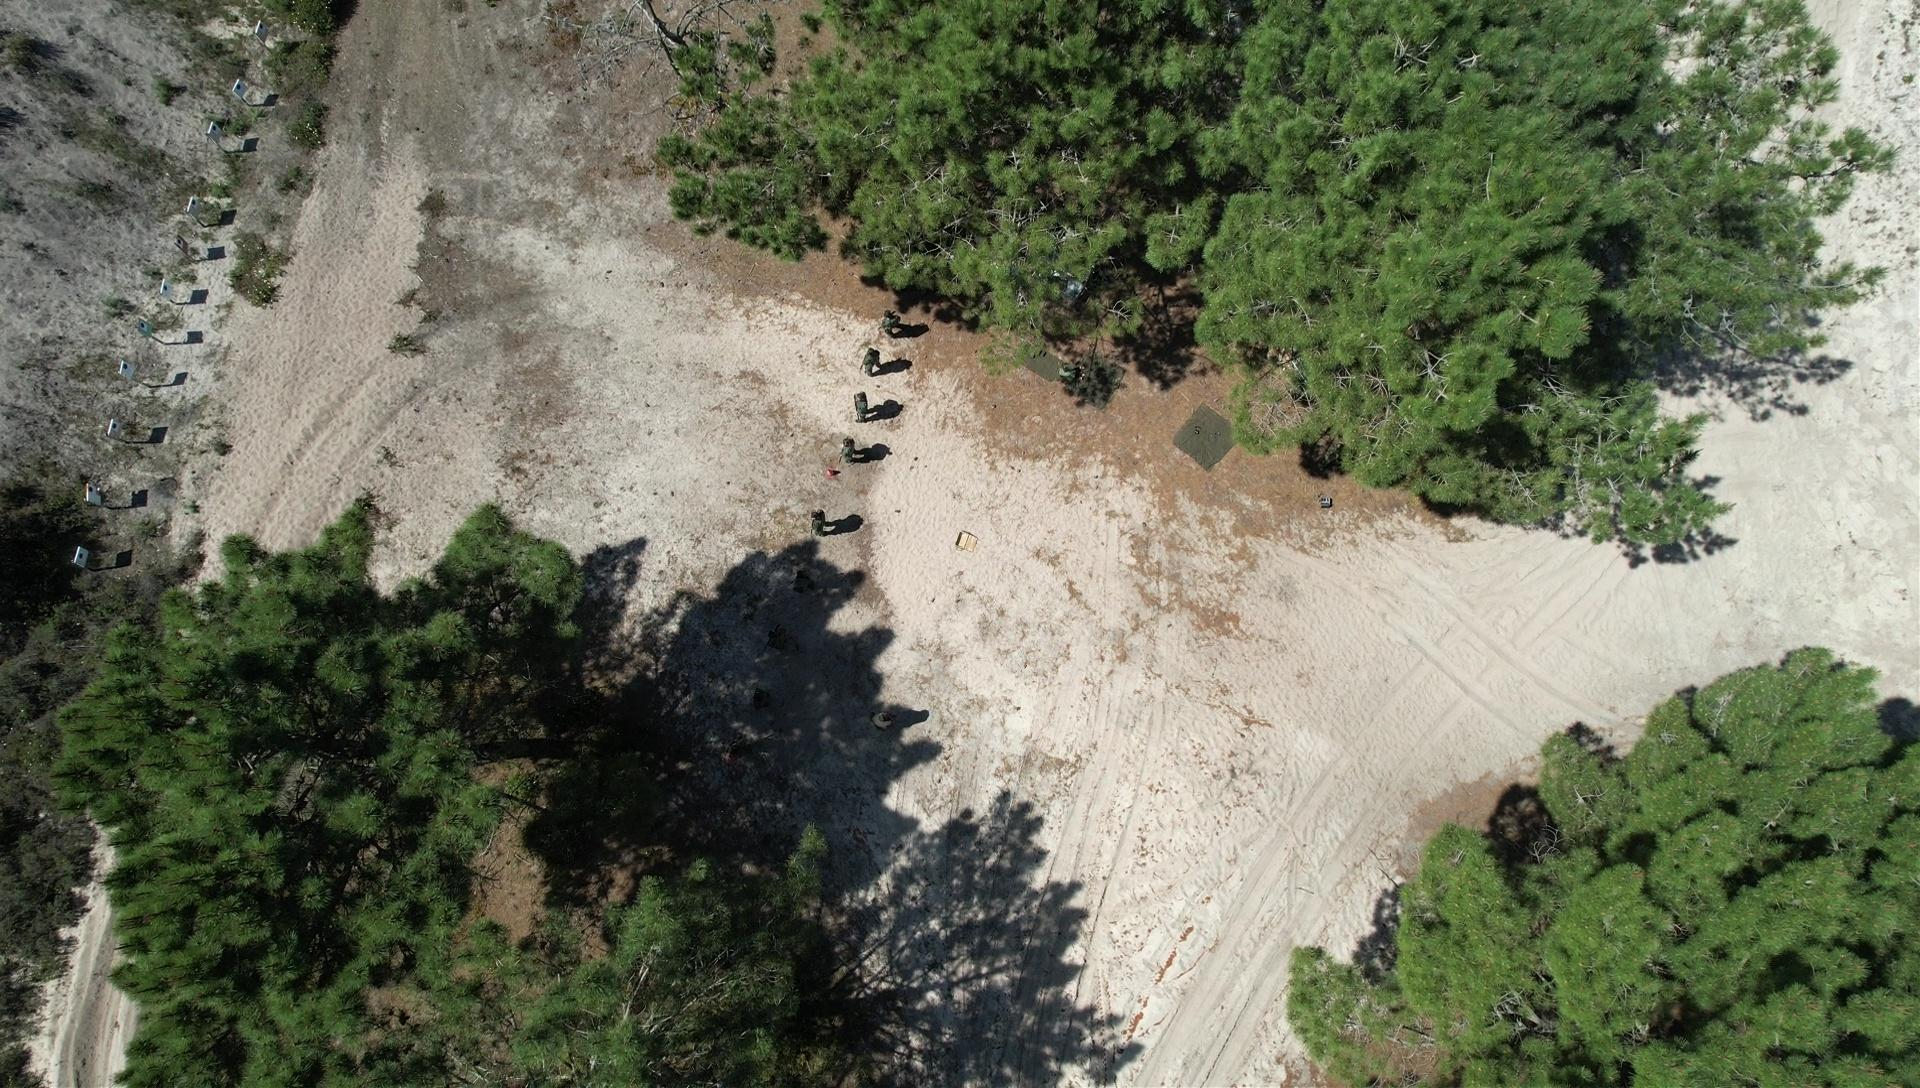Soldier: (860, 342, 887, 380), (767, 624, 798, 658), (793, 560, 816, 597), (810, 502, 832, 538), (725, 737, 756, 762), (749, 686, 775, 713), (872, 710, 897, 736), (843, 433, 861, 468), (853, 389, 873, 419)
